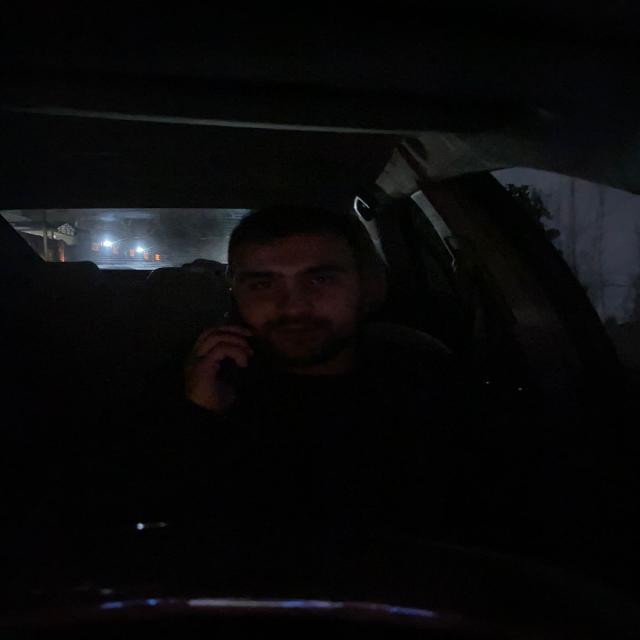phone: (217, 285, 246, 360)
